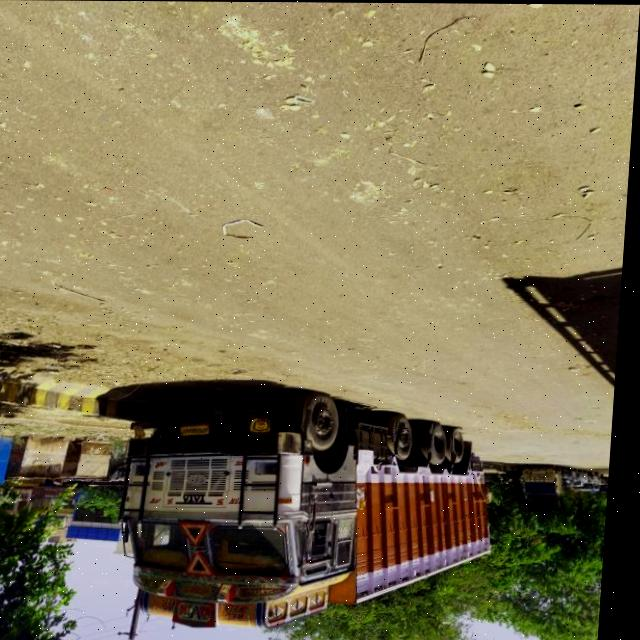plate: (185, 424, 218, 438)
